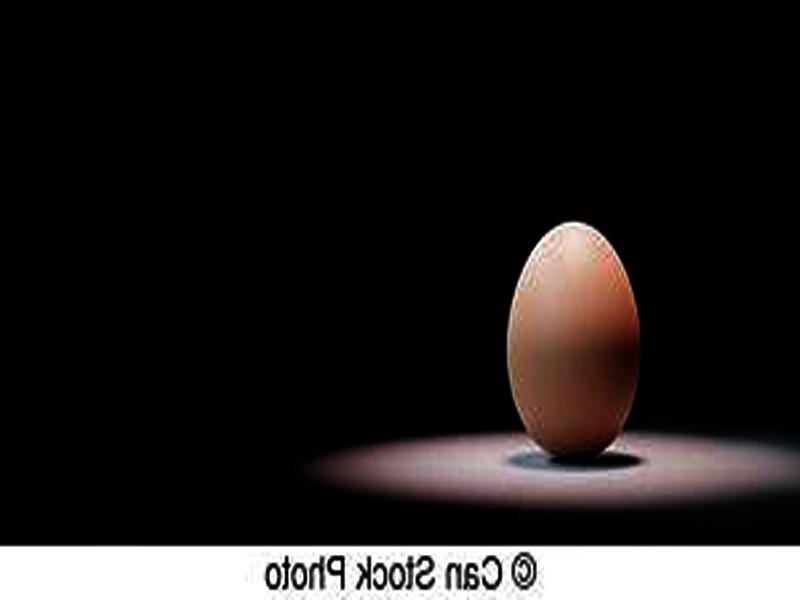Eggs: (506, 222, 644, 462)
